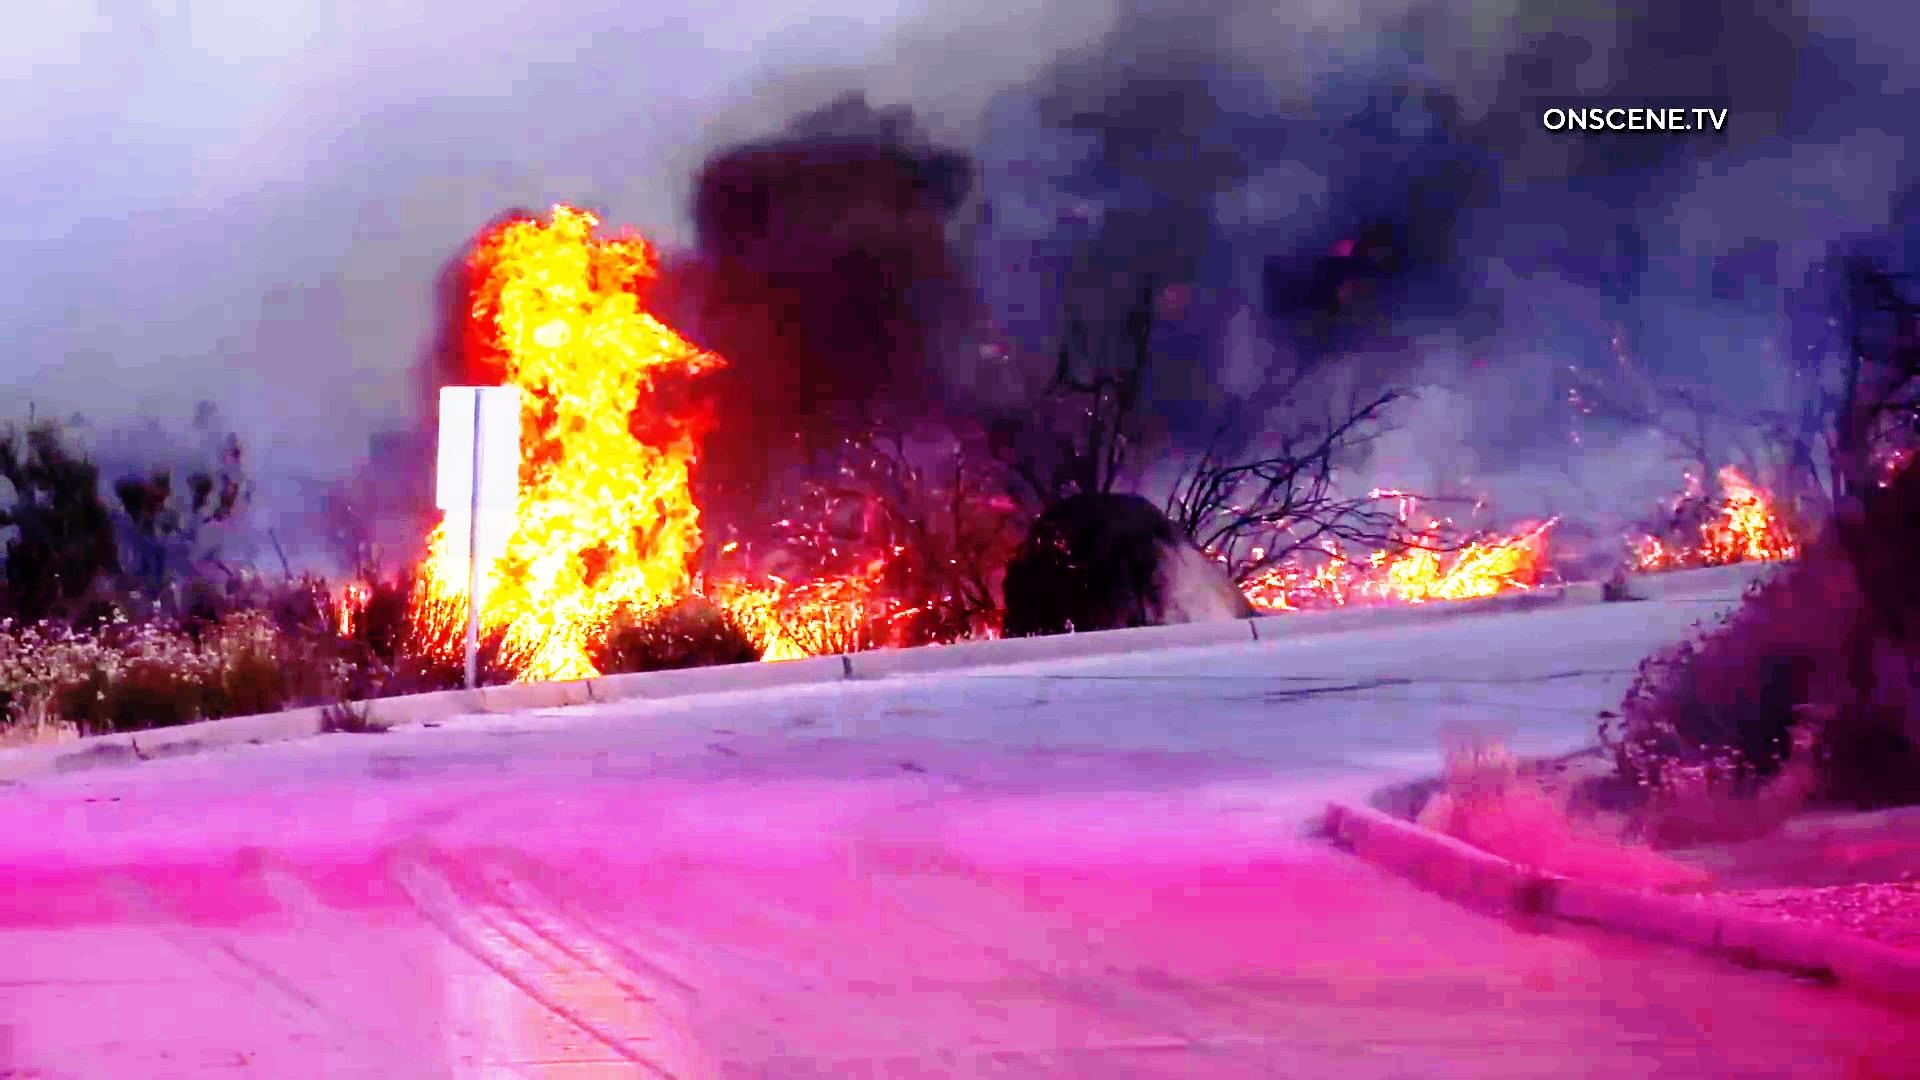fire: (473, 240, 673, 678), (1298, 527, 1565, 608)
smoke: (675, 53, 1009, 510)
